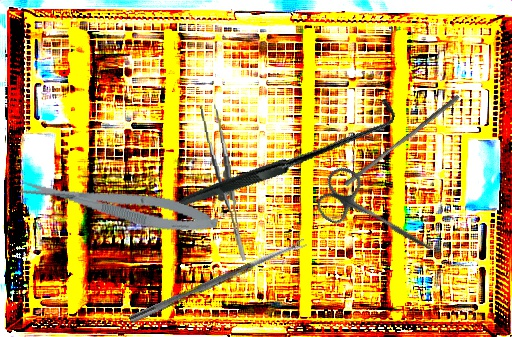Hook Surgical: (178, 46, 400, 261)
Iris Scissors: (309, 162, 450, 273)
Micro Scissor: (17, 166, 221, 242)
Pusher: (343, 90, 461, 191)
Surgical Spoon: (128, 238, 308, 325)
Tissue Forceps: (200, 102, 246, 264)
